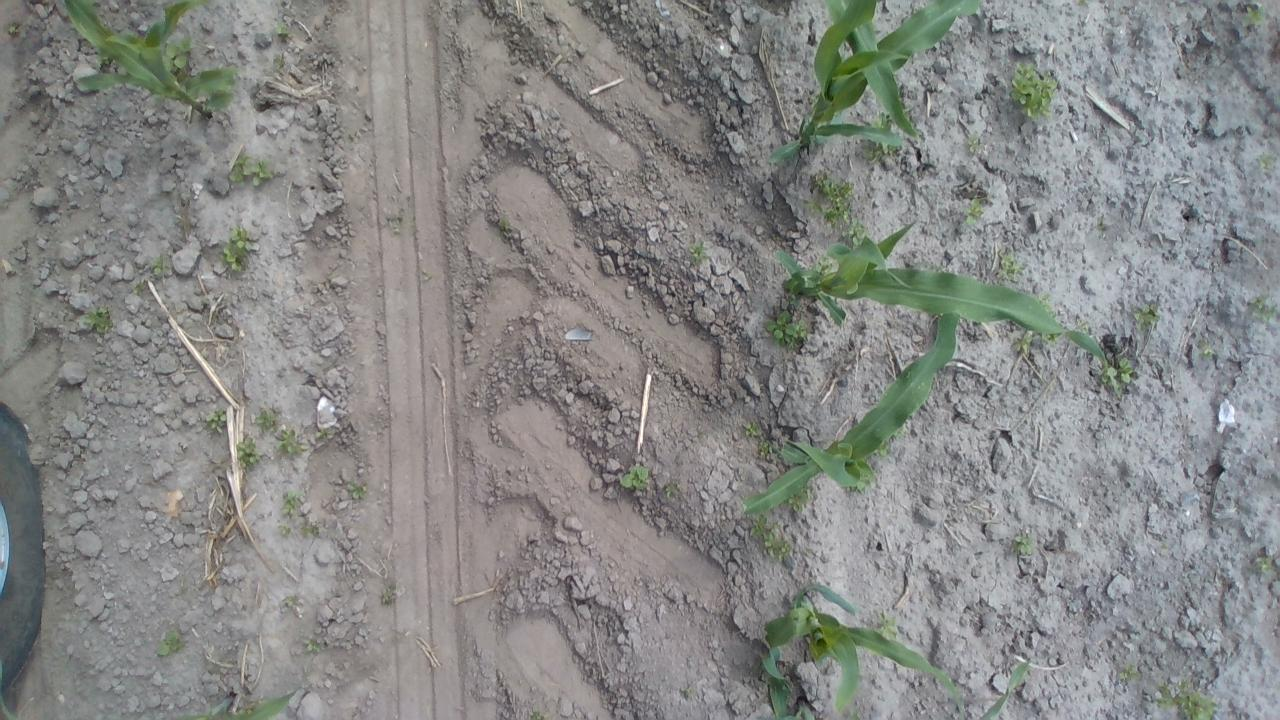Maize: (773, 219, 1123, 396), (740, 312, 960, 518), (766, 0, 984, 163), (758, 584, 967, 720), (64, 0, 242, 120), (176, 687, 300, 720), (976, 656, 1029, 720), (778, 698, 820, 720)
Weeds: (803, 168, 865, 246), (1008, 61, 1060, 122), (1155, 679, 1216, 720), (747, 514, 795, 562), (228, 152, 276, 188), (222, 223, 252, 273), (162, 29, 194, 72), (1100, 358, 1134, 397), (78, 304, 115, 335), (1130, 303, 1160, 334), (993, 253, 1024, 283), (0, 663, 16, 720), (237, 435, 264, 468), (862, 140, 904, 161), (1249, 294, 1280, 322), (276, 428, 307, 456), (156, 628, 185, 657), (621, 464, 650, 490), (876, 610, 898, 642), (1011, 532, 1036, 558), (788, 488, 814, 513), (254, 406, 278, 433), (280, 490, 306, 514), (964, 195, 984, 224), (1240, 5, 1264, 28), (758, 439, 784, 459), (208, 408, 228, 434), (151, 254, 172, 278), (346, 478, 368, 500), (1035, 294, 1055, 318), (1012, 332, 1032, 354), (1254, 554, 1276, 574), (688, 241, 706, 264), (871, 111, 892, 130), (1116, 662, 1138, 680), (1258, 150, 1277, 170), (496, 218, 512, 240), (742, 420, 762, 437), (274, 20, 290, 40), (966, 132, 980, 154), (856, 474, 876, 489), (304, 638, 321, 654), (301, 521, 318, 537), (1200, 339, 1215, 357), (874, 441, 890, 456), (846, 703, 859, 720), (1040, 333, 1058, 344), (1076, 319, 1090, 333), (272, 54, 284, 70), (132, 282, 144, 297), (529, 710, 545, 720), (96, 56, 110, 66), (1076, 0, 1090, 10), (7, 22, 18, 34), (314, 429, 327, 439), (392, 223, 403, 234), (686, 686, 696, 698), (280, 526, 290, 536), (666, 486, 674, 496), (286, 596, 294, 606), (1096, 219, 1104, 229)
